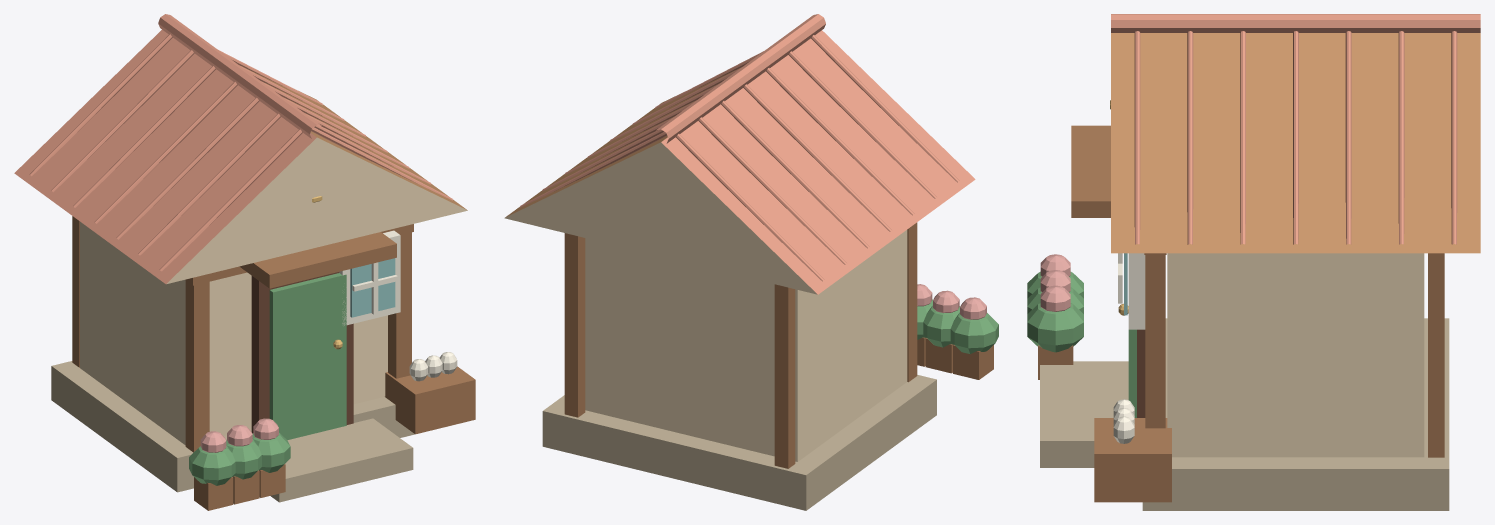
Rendered from coop-house.gltf.
The picture shows the model from 3 angles, left to right: view 1: azimuth 30°, elevation 25°; view 2: azimuth 150°, elevation 25°; view 3: azimuth 270°, elevation 25°; orthographic projection. The views are drawn at different scales.
Parts seen in each view (by area): view 1: connected-layered-roof-left, solid-cream-walls, connected-layered-roof-front-gable, painted-door, stone-foundation, porch-step, nesting-basket, timber-awning, front-timber-post--0.77, central-door-frame, connected-layered-roof-ridge, front-timber-post-0.77 (+19 smaller); view 2: solid-cream-walls, connected-layered-roof-left, stone-foundation, connected-layered-roof-back-gable, back-timber-post--0.77, back-timber-post-0.77, connected-layered-roof-ridge, connected-layered-roof-right, front-timber-post--0.77, potted-flowers-0-leaf, potted-flowers-0-pot, connected-layered-roof-tile--1-0 (+9 smaller); view 3: connected-layered-roof-right, solid-cream-walls, stone-foundation, porch-step, connected-layered-roof-ridge, nesting-basket, timber-awning, front-timber-post-0.77, back-timber-post-0.77, potted-flowers-2-leaf, connected-layered-roof-tile-1-1, connected-layered-roof-tile-1-0 (+10 smaller).
Boxes of the visible parts, bbox=[...] form: connected-layered-roof-left: bbox=[14, 29, 316, 283]; solid-cream-walls: bbox=[80, 221, 387, 445]; connected-layered-roof-front-gable: bbox=[167, 137, 467, 283]; painted-door: bbox=[269, 273, 346, 439]; stone-foundation: bbox=[51, 361, 414, 492]; porch-step: bbox=[270, 418, 413, 502]; nesting-basket: bbox=[385, 366, 475, 434]; timber-awning: bbox=[239, 232, 396, 288]; front-timber-post--0.77: bbox=[185, 280, 209, 452]; central-door-frame: bbox=[251, 272, 353, 433]; connected-layered-roof-ridge: bbox=[158, 14, 321, 138]; front-timber-post-0.77: bbox=[388, 232, 411, 378]; solid-cream-walls: bbox=[585, 230, 907, 461]; connected-layered-roof-left: bbox=[661, 30, 975, 294]; stone-foundation: bbox=[542, 375, 936, 510]; connected-layered-roof-back-gable: bbox=[504, 142, 817, 294]; back-timber-post--0.77: bbox=[774, 284, 795, 468]; back-timber-post-0.77: bbox=[564, 233, 585, 417]; connected-layered-roof-ridge: bbox=[656, 14, 825, 143]; connected-layered-roof-right: bbox=[505, 67, 741, 217]; front-timber-post--0.77: bbox=[907, 222, 917, 382]; potted-flowers-0-leaf: bbox=[950, 312, 998, 353]; potted-flowers-0-pot: bbox=[953, 345, 993, 379]; connected-layered-roof-tile--1-0: bbox=[676, 134, 824, 281]; connected-layered-roof-right: bbox=[1111, 33, 1480, 253]; solid-cream-walls: bbox=[1167, 253, 1424, 457]; stone-foundation: bbox=[1142, 318, 1449, 510]; porch-step: bbox=[1040, 361, 1128, 467]; connected-layered-roof-ridge: bbox=[1111, 14, 1480, 32]; nesting-basket: bbox=[1094, 418, 1171, 502]; timber-awning: bbox=[1071, 125, 1110, 217]; front-timber-post-0.77: bbox=[1145, 255, 1165, 428]; back-timber-post-0.77: bbox=[1428, 253, 1444, 457]; potted-flowers-2-leaf: bbox=[1027, 303, 1083, 352]; connected-layered-roof-tile-1-1: bbox=[1398, 31, 1404, 244]; connected-layered-roof-tile-1-0: bbox=[1451, 31, 1457, 244].
Bounding box in the file's own units: 2.31 × 2.51 × 2.45.
